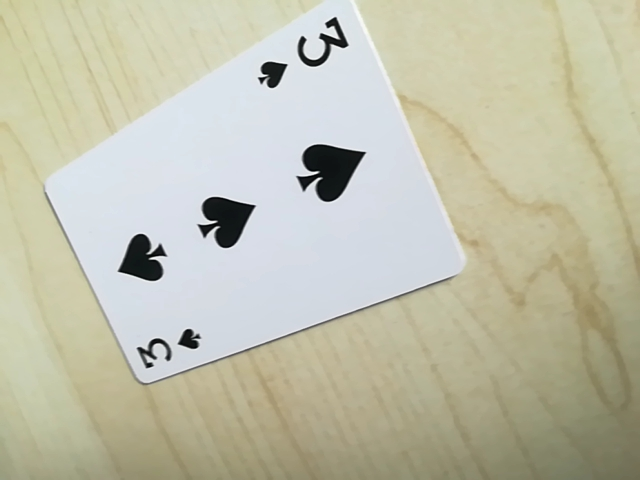ht 3: (250, 10, 349, 93), (128, 324, 207, 378)
